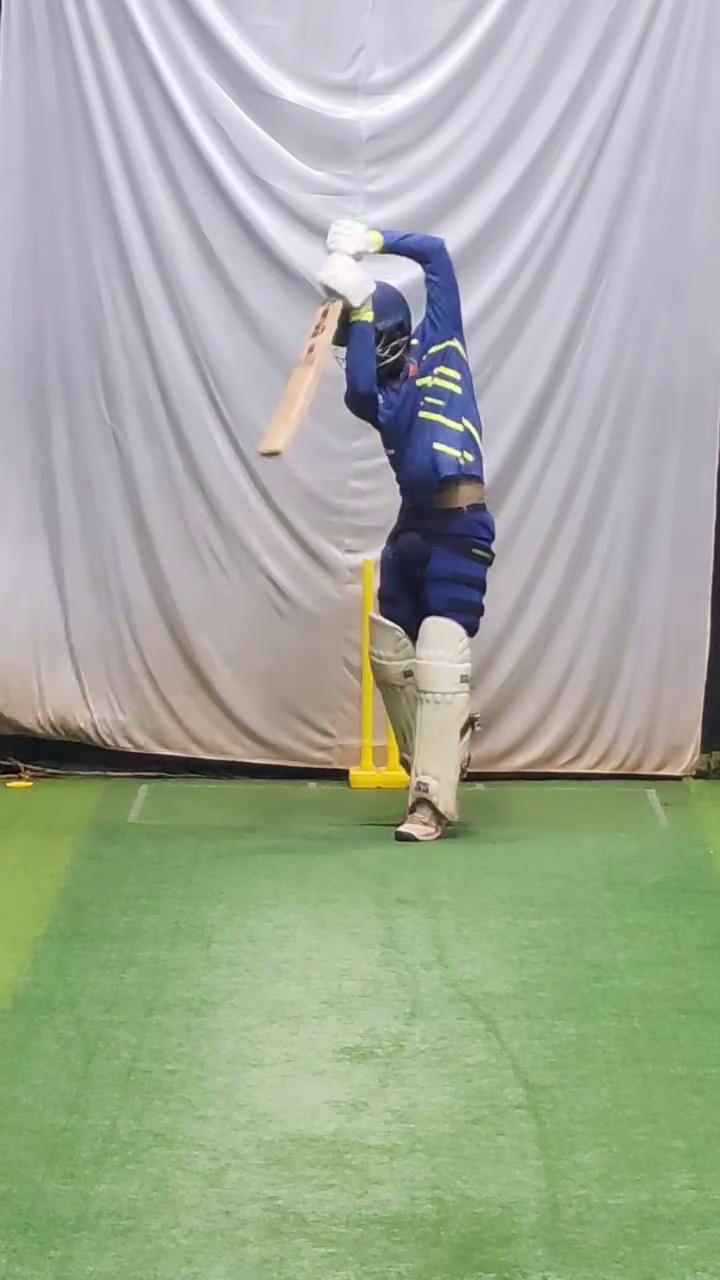bat: (251, 290, 346, 471)
